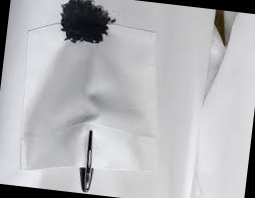ink: (58, 0, 111, 44)
